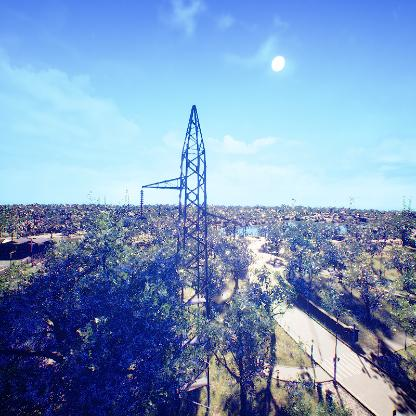tower: (138, 104, 242, 376)
